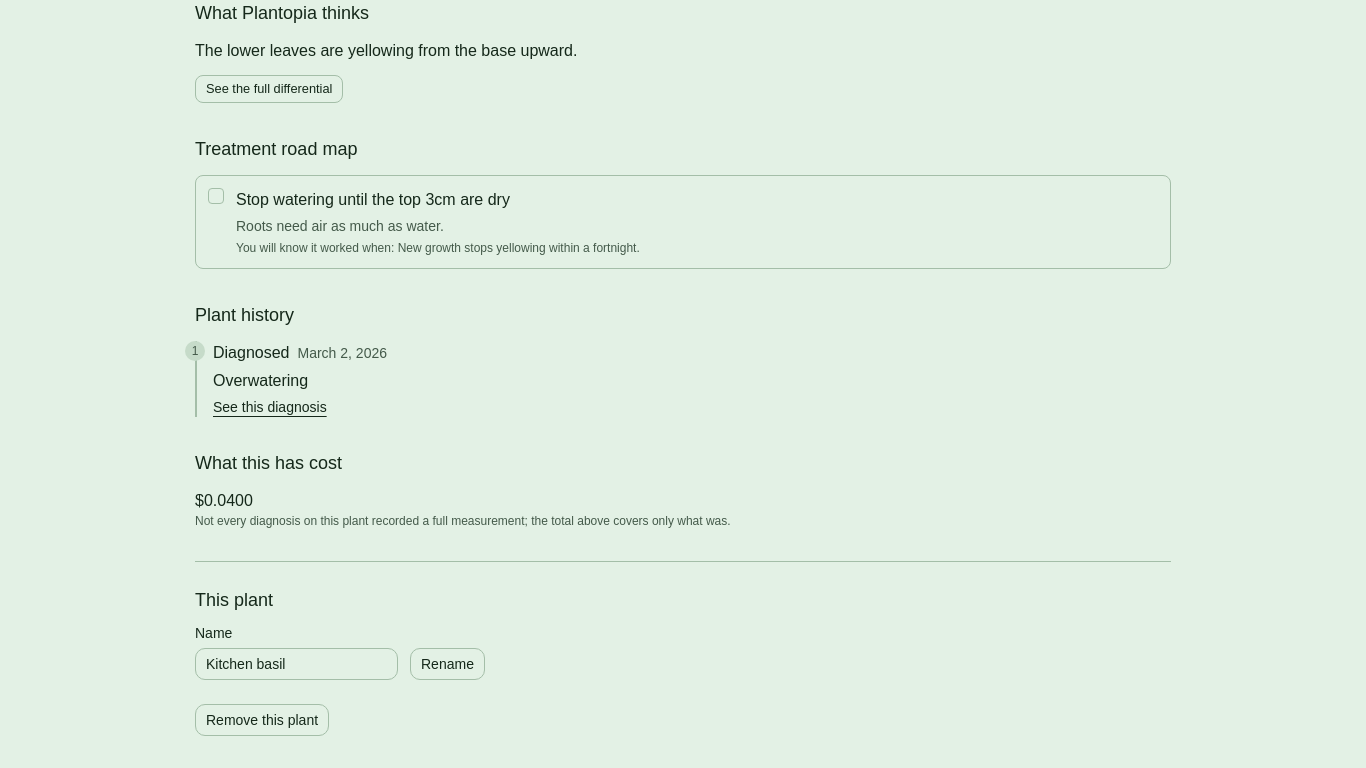
Test: renaming and removing › returns to the plants overview after a plant is removed
(page scrolled)
Click the button "Remove this plant" at (262, 720), box [195,704,329,736]
(page scrolled)
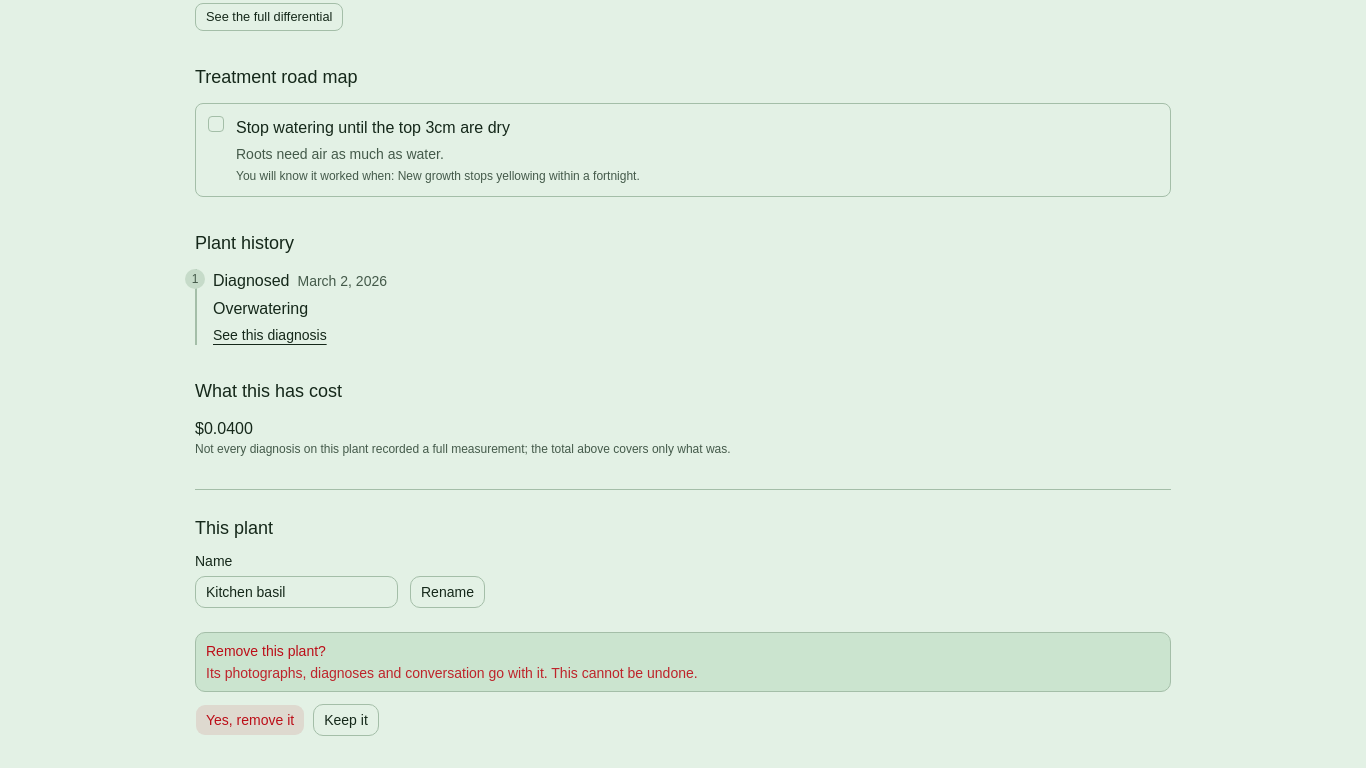
Click the button "Yes, remove it" at (250, 720), box [195,704,305,736]
(page scrolled)
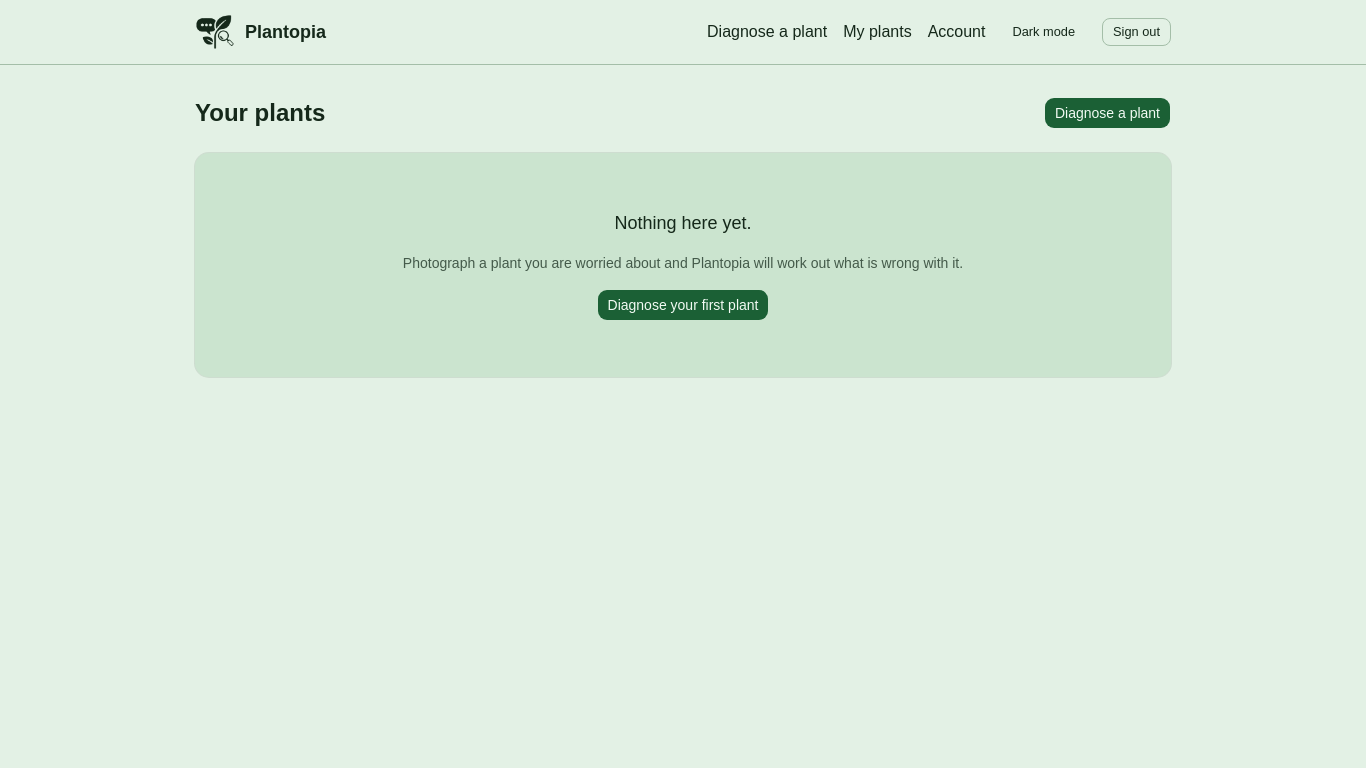
expect the text "Nothing here yet." is shown: met, box [614,213,752,233]
